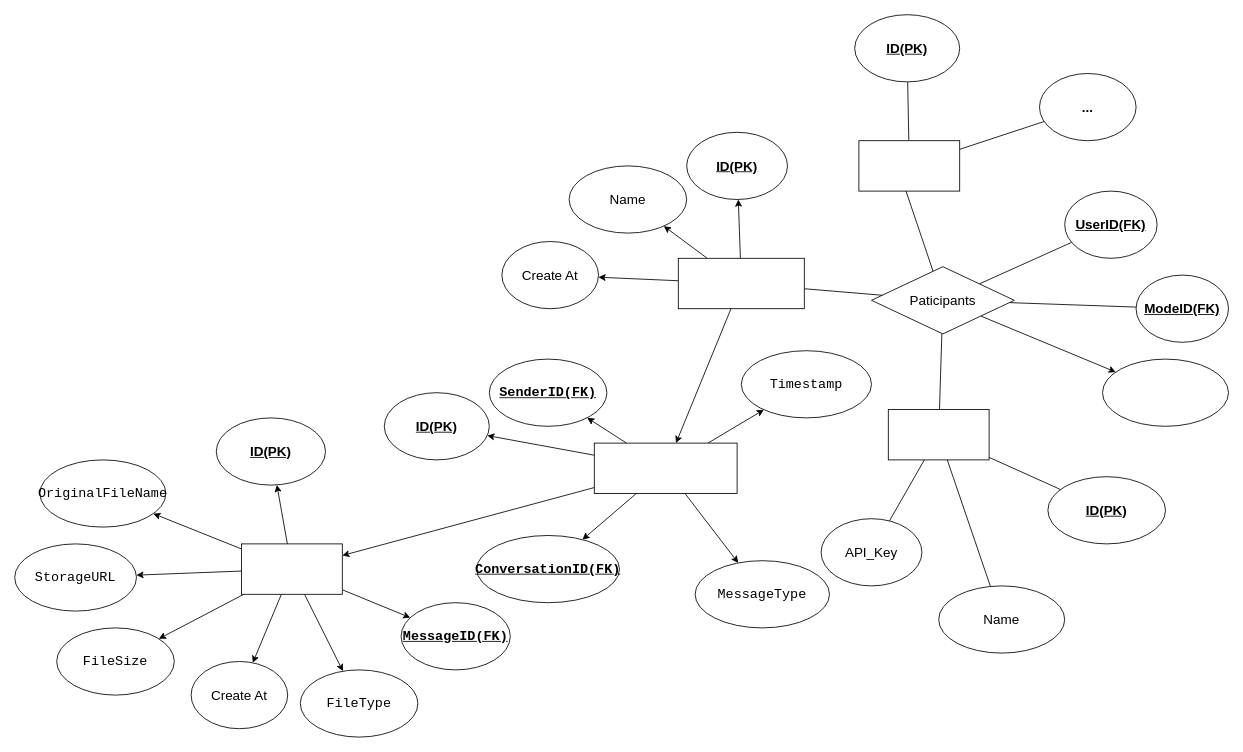
Image size: 1243x752. Some labels were removed from this diagram. The centre of each missing label's shape, as x and y in pixels:
"AI model" belongs at (938,434).
"Attachments" belongs at (291,568).
"Conversations" belongs at (740,283).
"Join At" belongs at (1165,392).
"Messages" belongs at (665,468).
"Users" belongs at (909,165).
